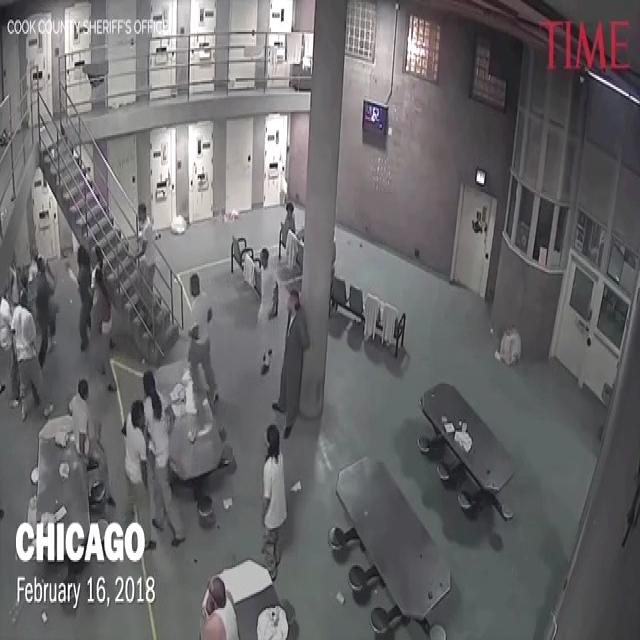fight: (124, 365, 170, 540), (32, 242, 92, 361)
